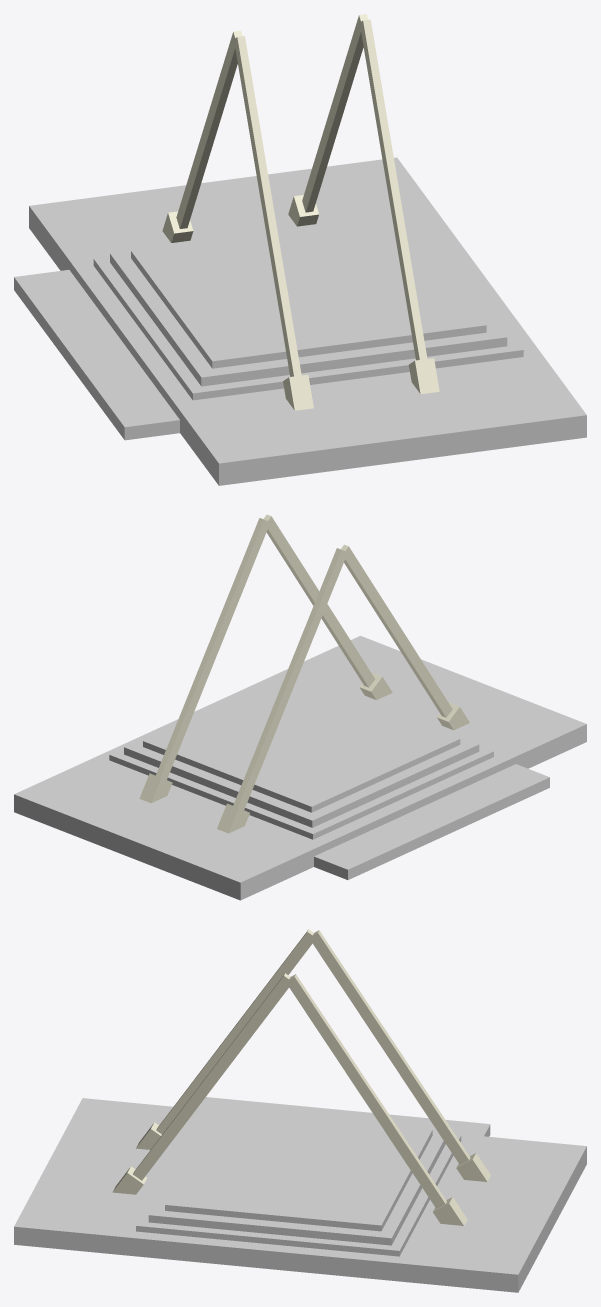
Rendered from riesenradStaticObjects.fbx.
3 renders of one model, top to bottom at view 1: azimuth 30°, elevation 25°; view 2: azimuth 150°, elevation 25°; view 3: azimuth 270°, elevation 25°, orthographic. The views are drawn at different scales.
Visible parts, largest first — view 1: Объект_Куб_011, Объект_Куб_007; view 2: Объект_Куб_011, Объект_Куб_007; view 3: Объект_Куб_011, Объект_Куб_007.
Boxes of the visible parts, x1,y1,x2,y2 form: Объект_Куб_011: (14, 157, 586, 485); Объект_Куб_007: (162, 14, 439, 410); Объект_Куб_011: (14, 636, 586, 900); Объект_Куб_007: (139, 514, 469, 833); Объект_Куб_011: (14, 1097, 586, 1292); Объект_Куб_007: (112, 929, 490, 1225).
Size of the model in its own units: 2986 by 1886 by 3884.
